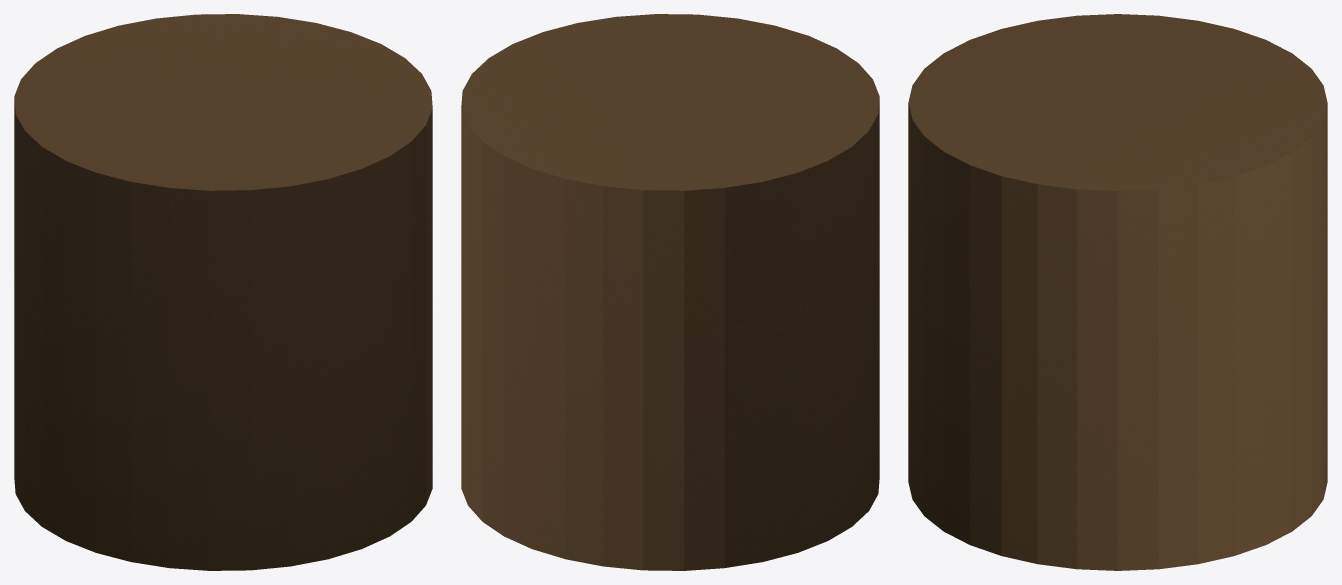
The model's file is pipe.gltf.
3 renders of one model, left to right at view 1: azimuth 30°, elevation 25°; view 2: azimuth 150°, elevation 25°; view 3: azimuth 270°, elevation 25°, orthographic.
Visible parts, largest first — view 1: Cylinder; view 2: Cylinder; view 3: Cylinder.
Boxes of the visible parts, x1,y1,x2,y2 form: Cylinder: (14, 14, 432, 570); Cylinder: (461, 14, 879, 570); Cylinder: (908, 14, 1327, 570).
Size of the model in its own units: 1.09 by 1.09 by 1.09.
1 material, 1 textured.
